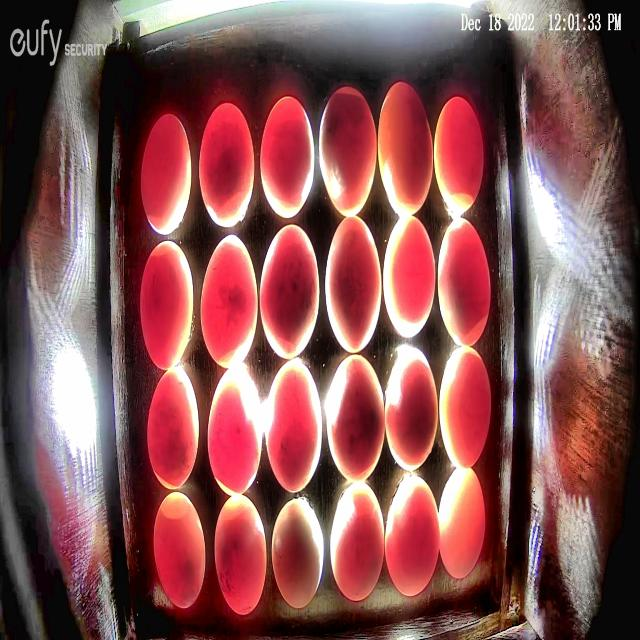FE: (259, 223, 319, 362), (324, 212, 382, 354), (200, 233, 258, 369), (326, 354, 386, 485), (319, 85, 377, 218), (266, 357, 322, 492), (377, 82, 433, 216), (208, 363, 263, 498), (198, 102, 255, 227), (140, 240, 194, 370), (437, 218, 491, 347), (260, 96, 316, 220), (385, 346, 438, 474), (147, 364, 200, 491), (384, 477, 440, 597), (213, 492, 267, 616), (330, 482, 385, 602), (384, 216, 436, 340), (153, 489, 206, 609), (439, 346, 490, 470), (140, 114, 191, 235), (270, 498, 325, 609), (434, 95, 484, 215), (438, 464, 486, 580)
